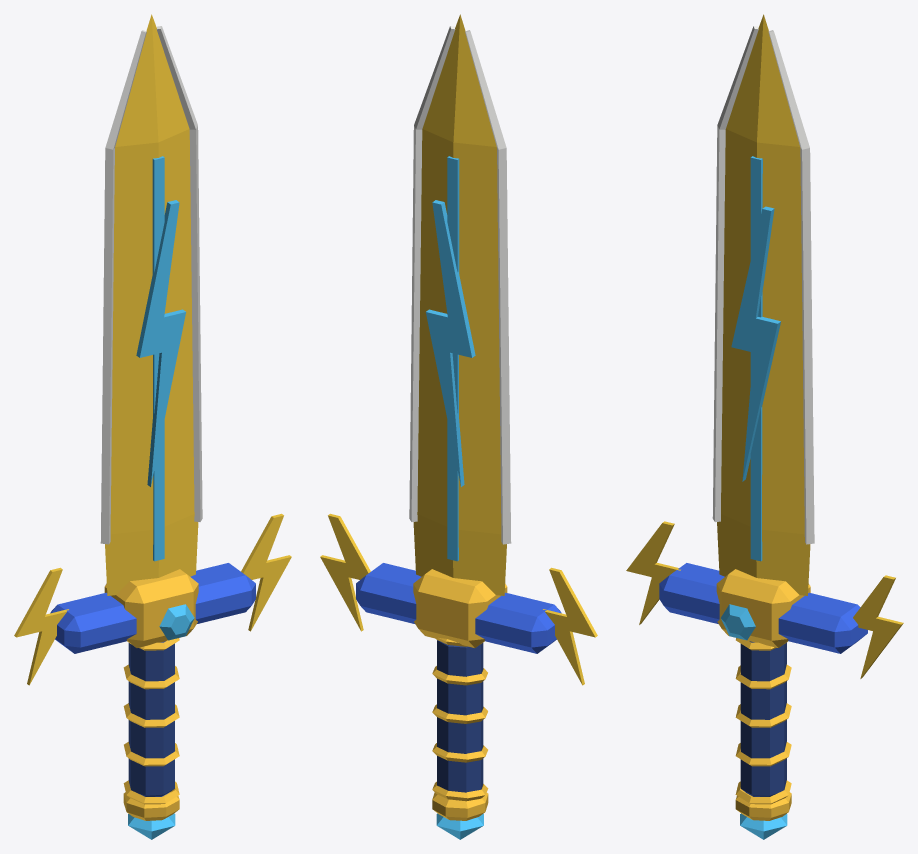
Rendered from ThunderSword.fbx.
3 views of the same model, side by side, from view 1: azimuth 30°, elevation 25°; view 2: azimuth 150°, elevation 25°; view 3: azimuth 330°, elevation 25° (orthographic).
Parts seen in each view (by area): view 1: ThunderSword; view 2: ThunderSword; view 3: ThunderSword.
Part boxes in pixels (x1,y1,x2,y2): ThunderSword: (14,14,291,839); ThunderSword: (320,14,597,839); ThunderSword: (626,14,903,839).
Bounding box in the file's own units: 1.87 × 5.35 × 0.54.
1 material, 1 textured.
